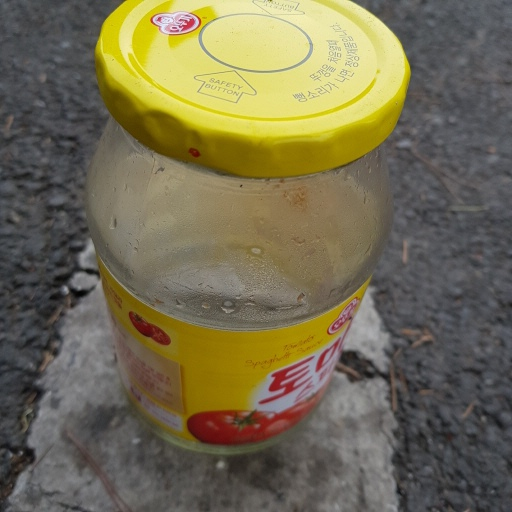Glass_5: (88, 3, 411, 451)
